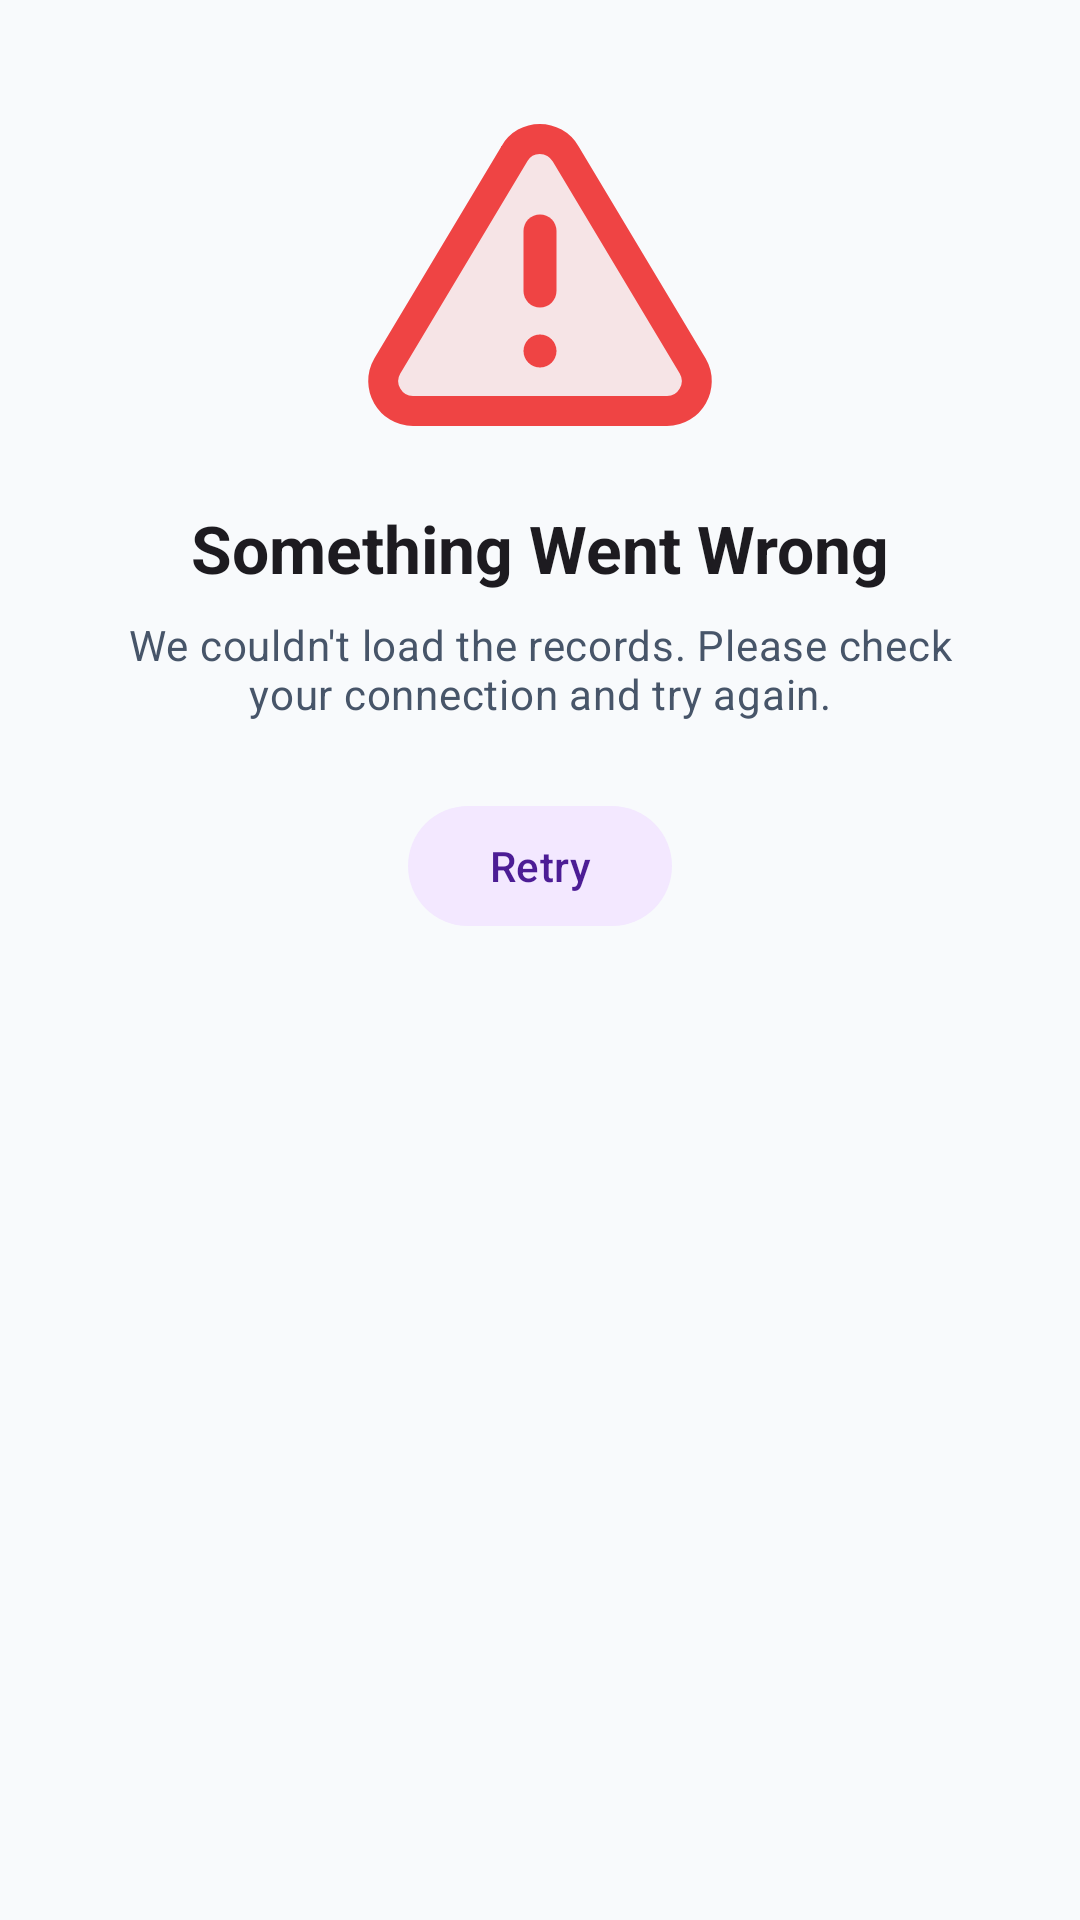

Icons on this 1080 × 1920 Android screen, each with the point to tap as point (x, y):
Error illustration: point (540, 275)
